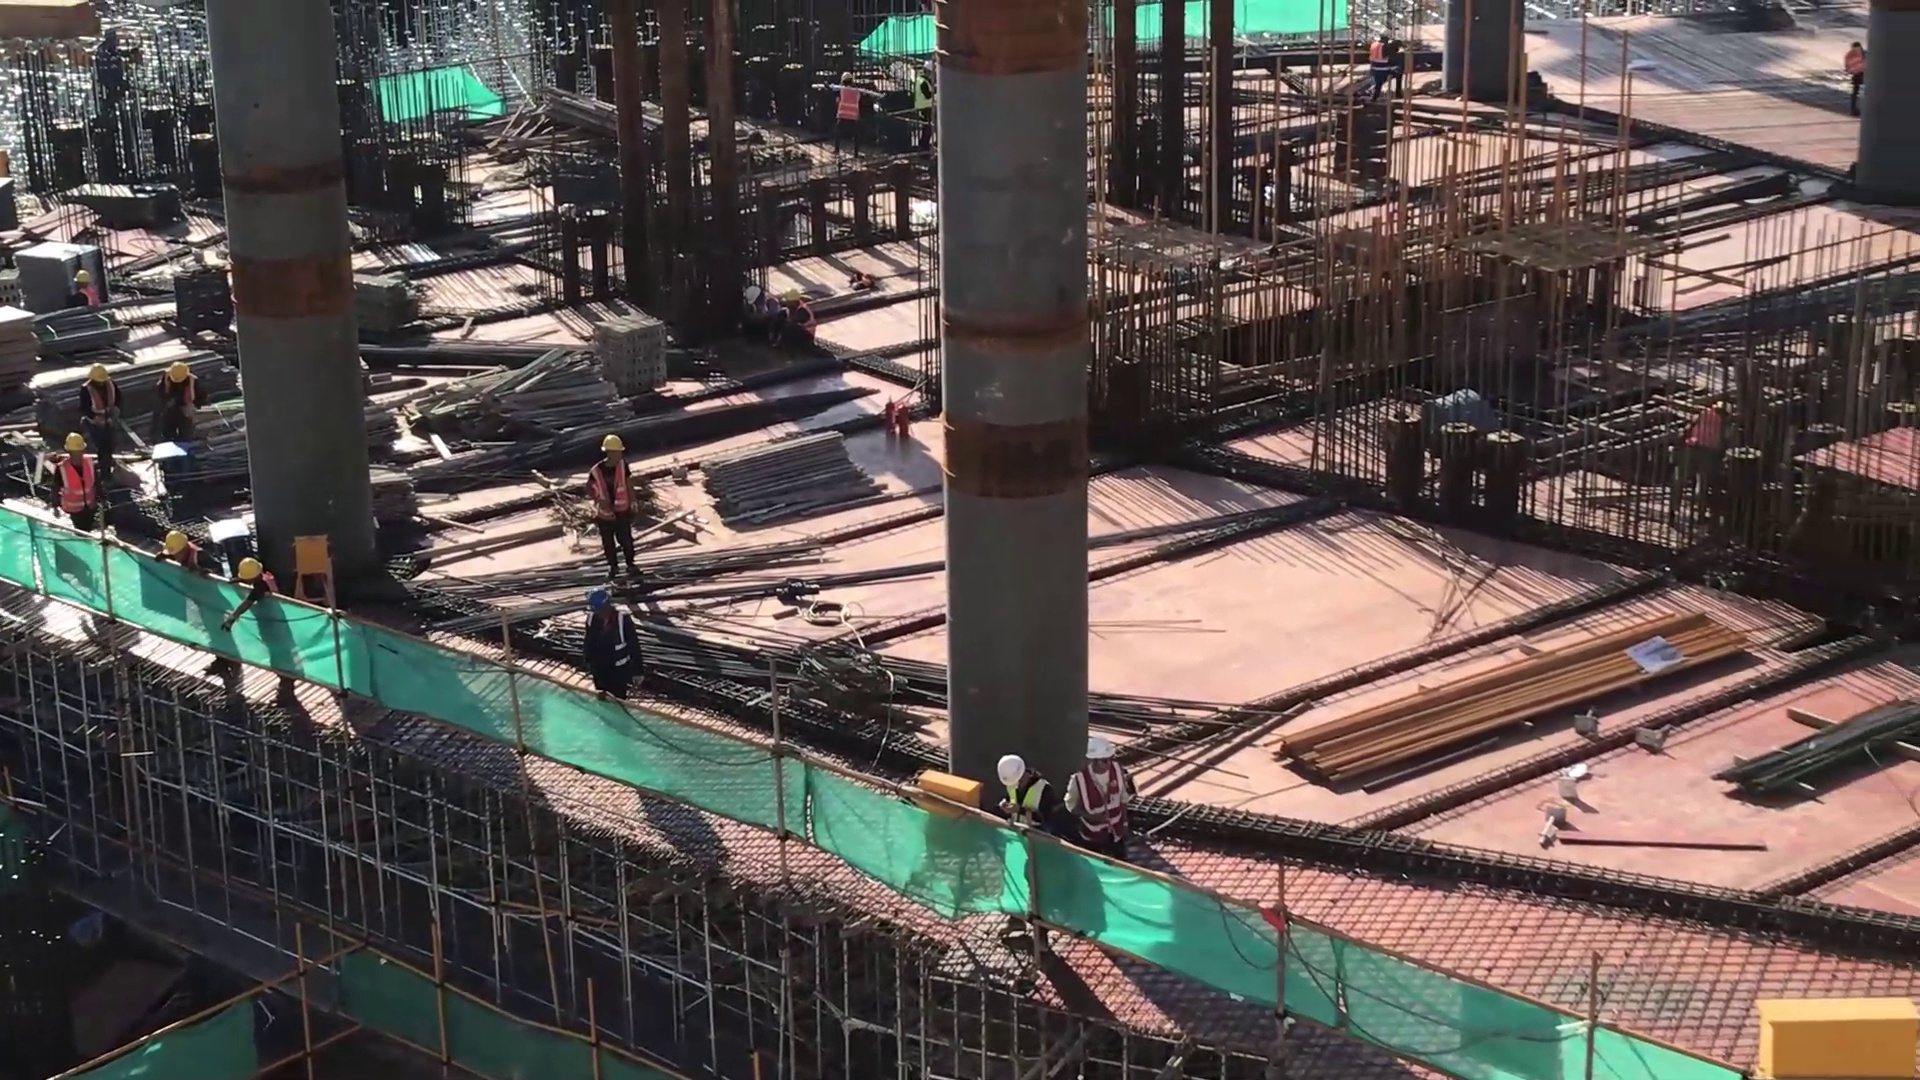helmet: (601, 418, 636, 469), (579, 579, 628, 615), (51, 433, 97, 464), (83, 360, 125, 392), (162, 523, 201, 558), (163, 357, 194, 388), (239, 554, 263, 577), (67, 261, 88, 283)
person: (827, 69, 869, 158), (58, 254, 111, 319), (1833, 34, 1879, 107), (913, 64, 935, 141)
vest: (48, 451, 98, 514), (582, 450, 629, 508), (1677, 410, 1720, 451), (836, 84, 866, 118), (1840, 42, 1870, 70), (908, 70, 932, 97)
